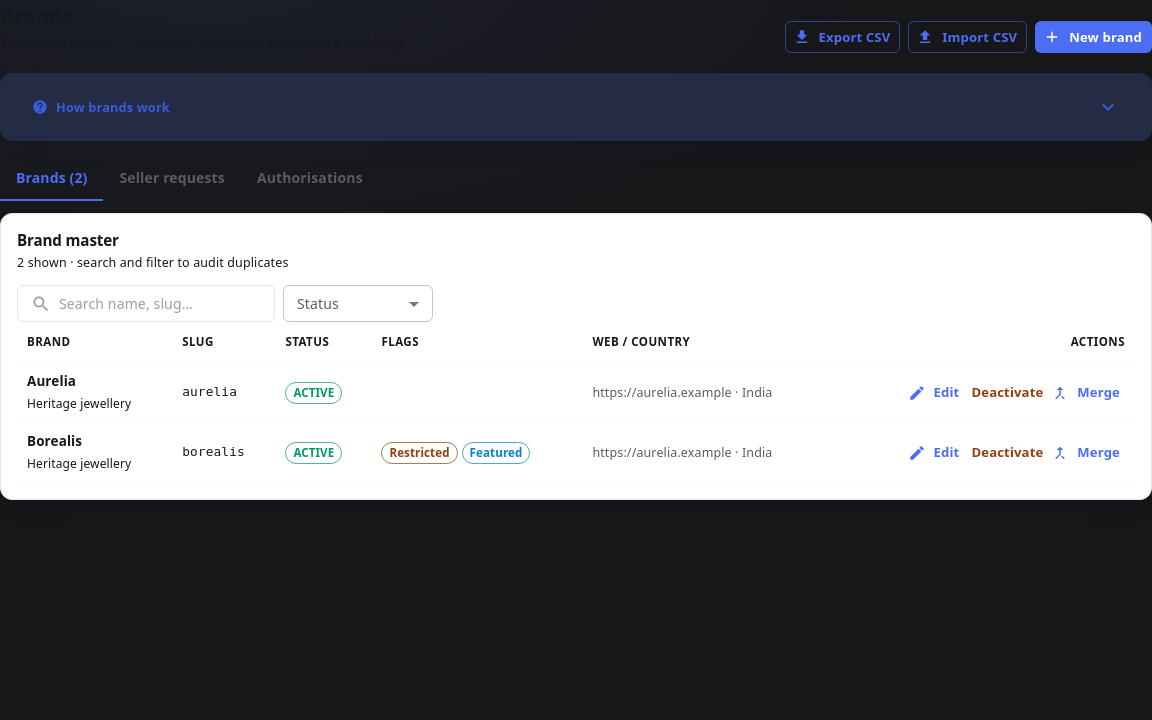
Test: BrandsView (admin) › opens the merge dialog with a survivor select
Click the 1st button "Merge": [1087, 393] box [1048,377,1125,409]
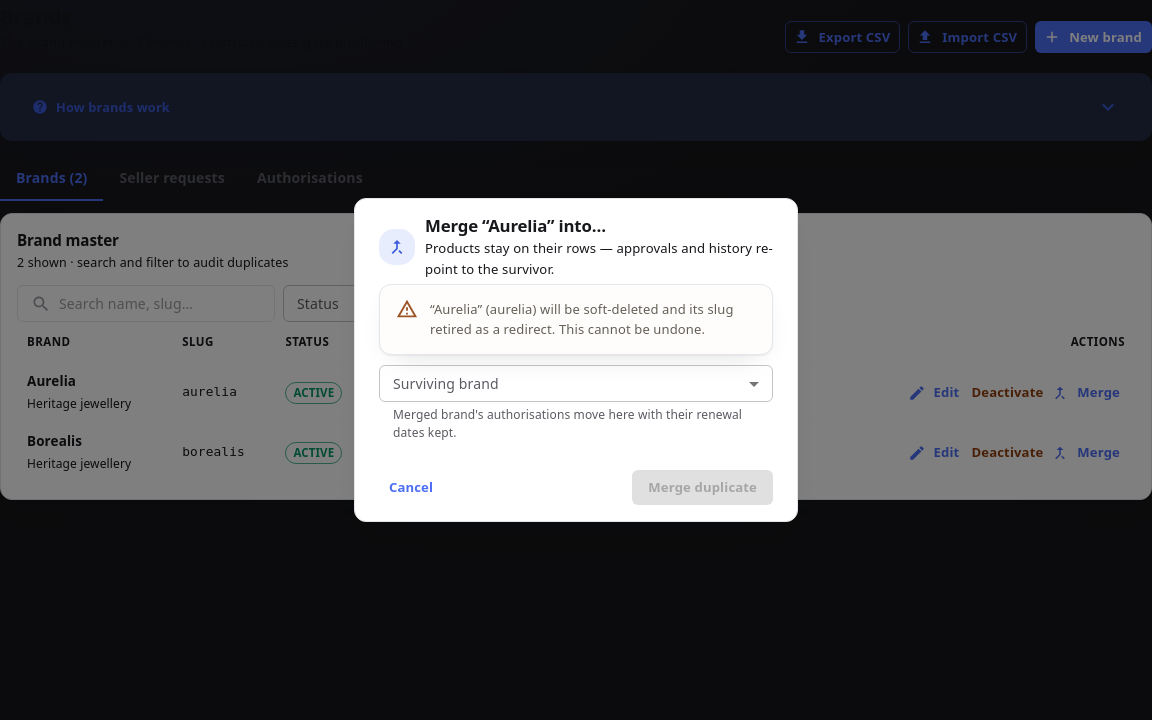
Result: the heading "Merge “Aurelia” into…" is shown at [425,214,606,237]
Result: the text "Surviving brand" is shown at [393,374,499,394]
